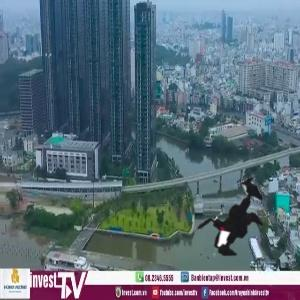drone: (169, 152, 296, 279)
